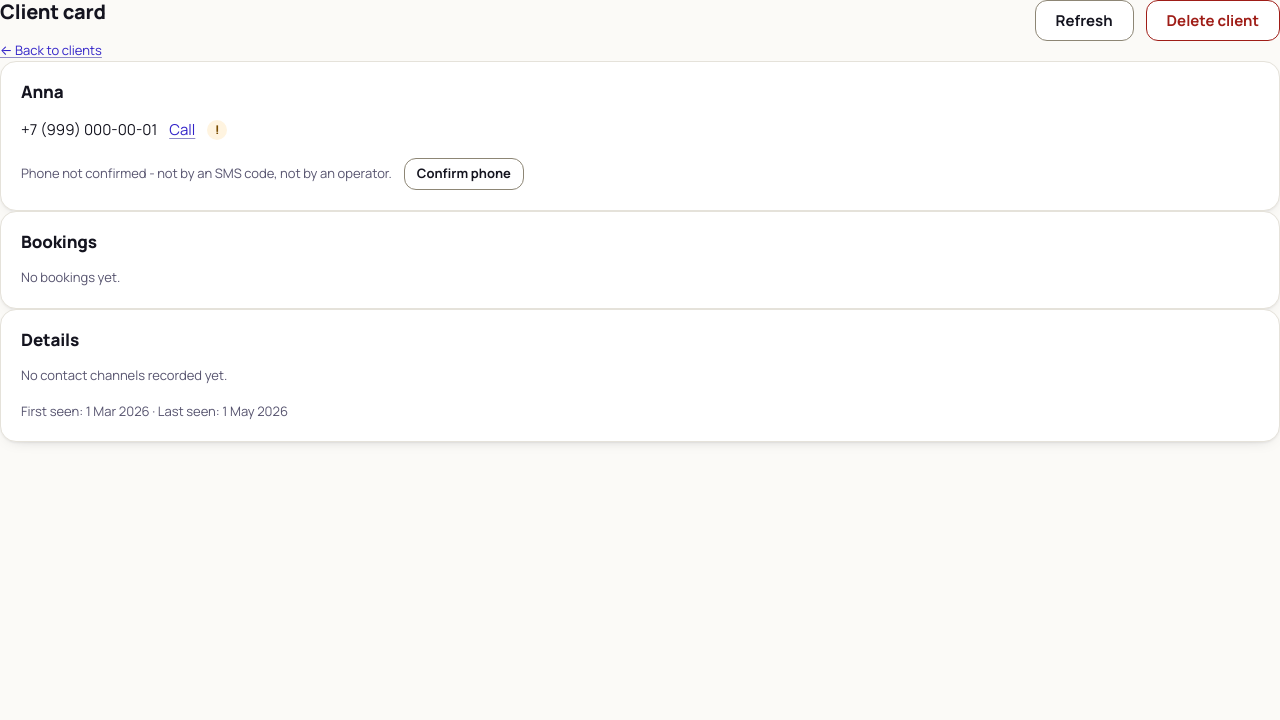
the delete-client action (26-275) › shows a plain error and keeps the confirm dialog open on any other refusal
Click the button "Delete client" at (1213, 20), box [1146, 0, 1279, 41]
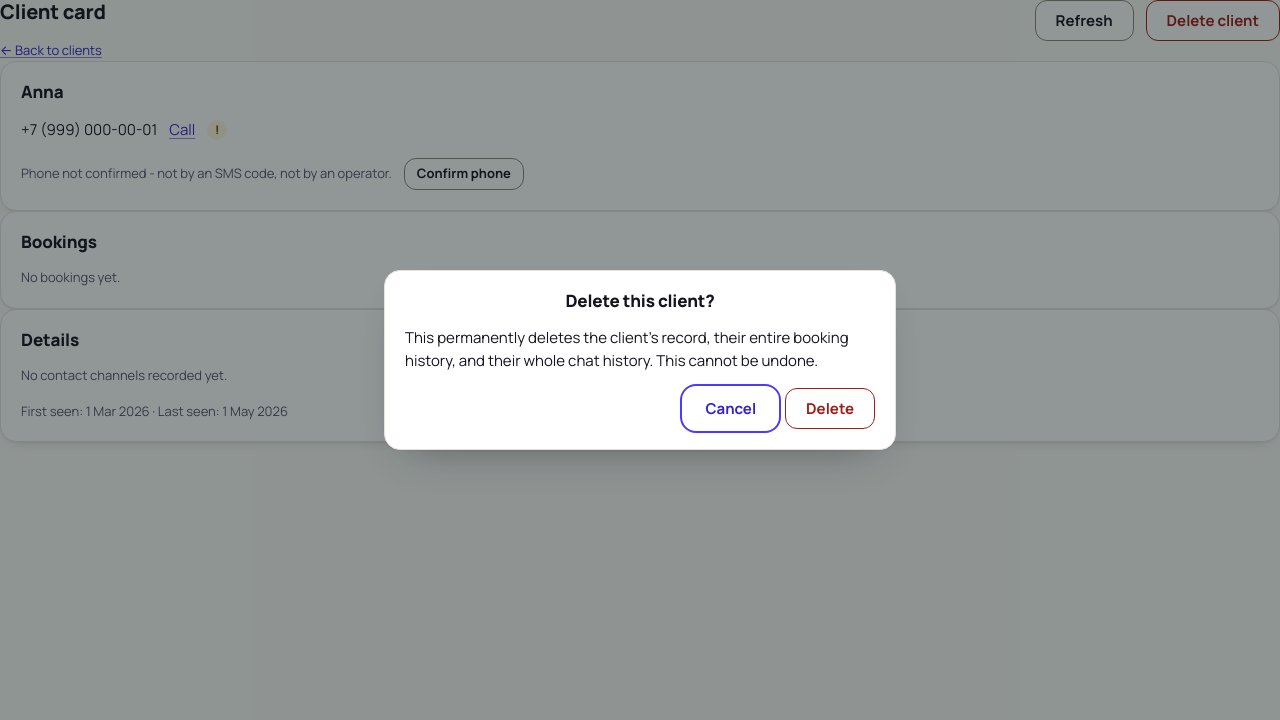
Click the button "Delete" at (830, 409), box [785, 388, 875, 429]
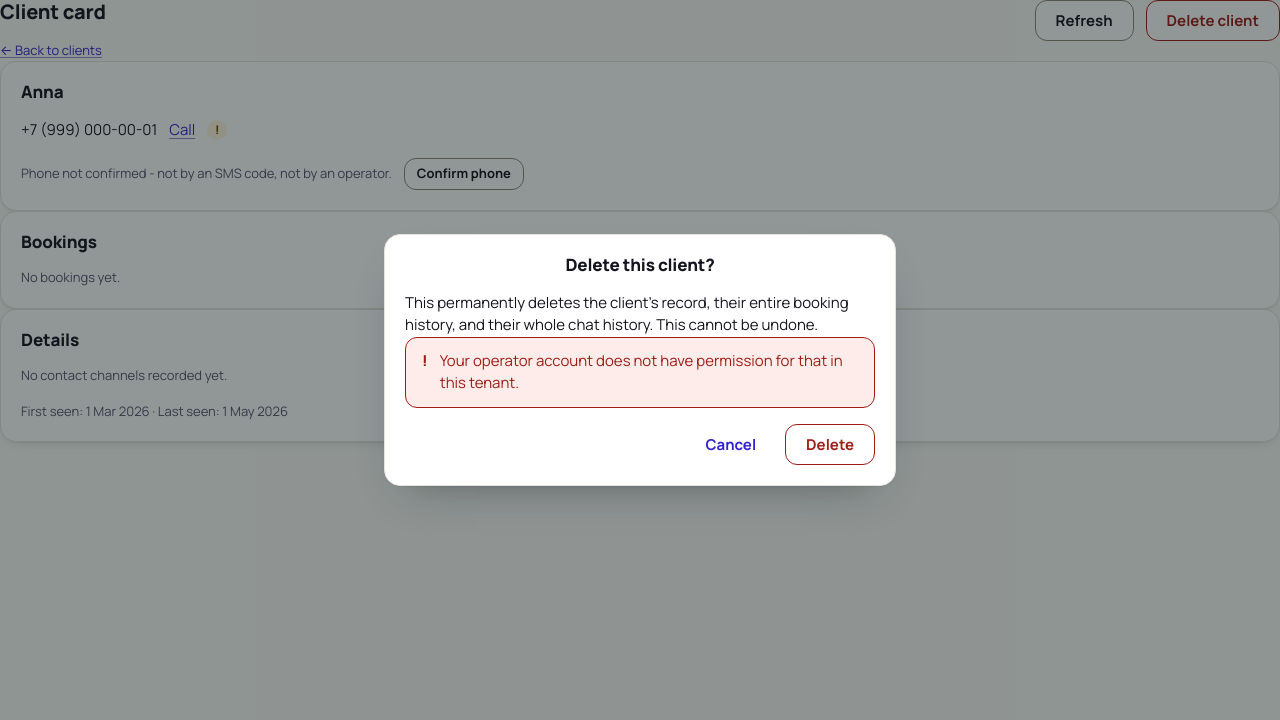
Expected: the dialog shows "not have permission", [440, 350, 842, 393]
